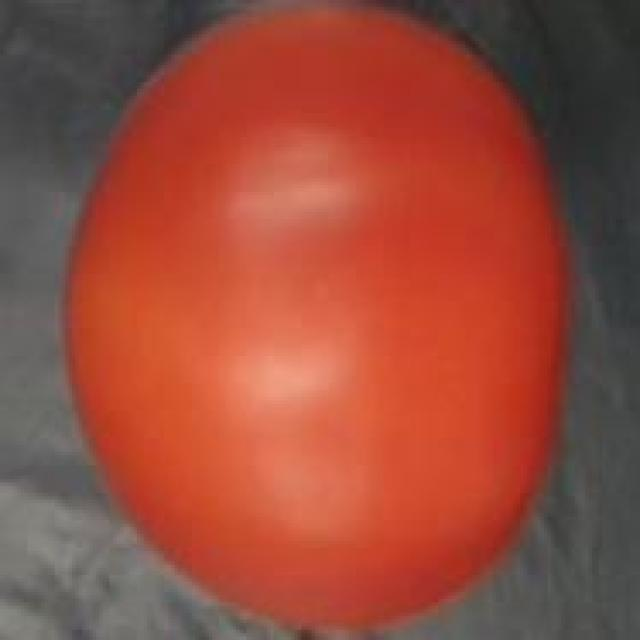ripe tomato: (51, 3, 592, 640)
